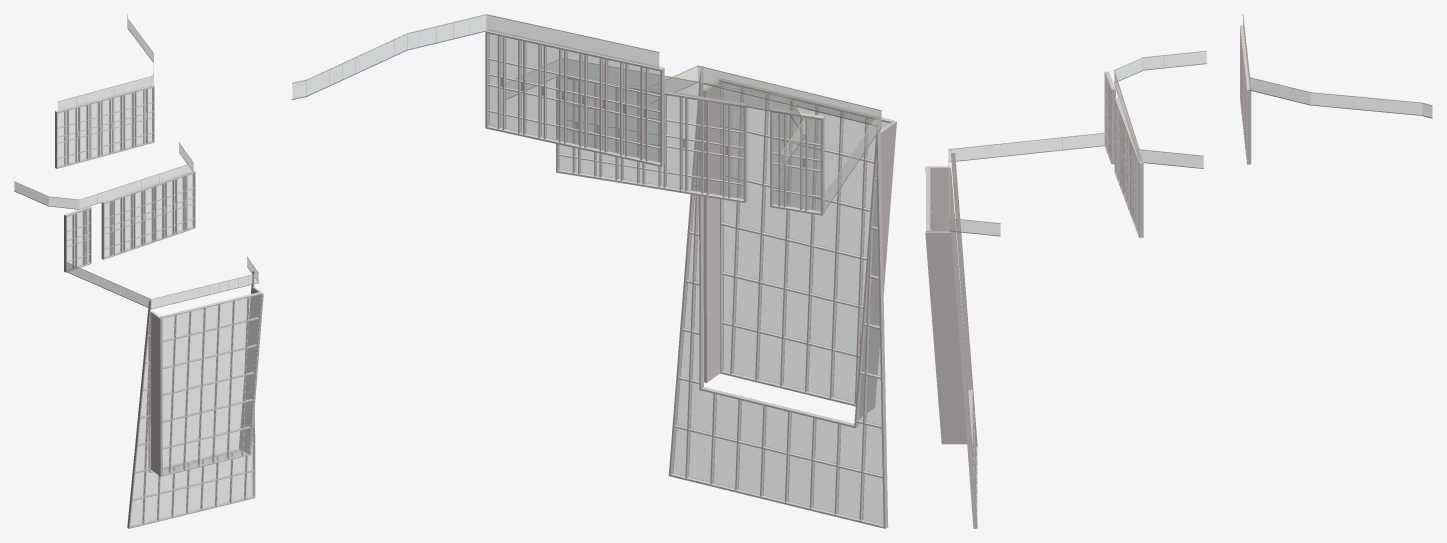
The model's file is KPF Robinson Tower Facade Lower Front.obj.
The picture shows the model from 3 angles, left to right: view 1: azimuth 30°, elevation 25°; view 2: azimuth 150°, elevation 25°; view 3: azimuth 270°, elevation 25°; orthographic projection. The views are drawn at different scales.
Parts seen in each view (by area): view 1: Finish___Wall; view 2: Finish___Wall; view 3: Finish___Wall.
Boxes of the visible parts, x1,y1,x2,y2 form: Finish___Wall: (14,14,263,528); Finish___Wall: (292,14,896,528); Finish___Wall: (925,14,1432,528).
Bounding box in the file's own units: 20.64 × 34.05 × 34.5.
